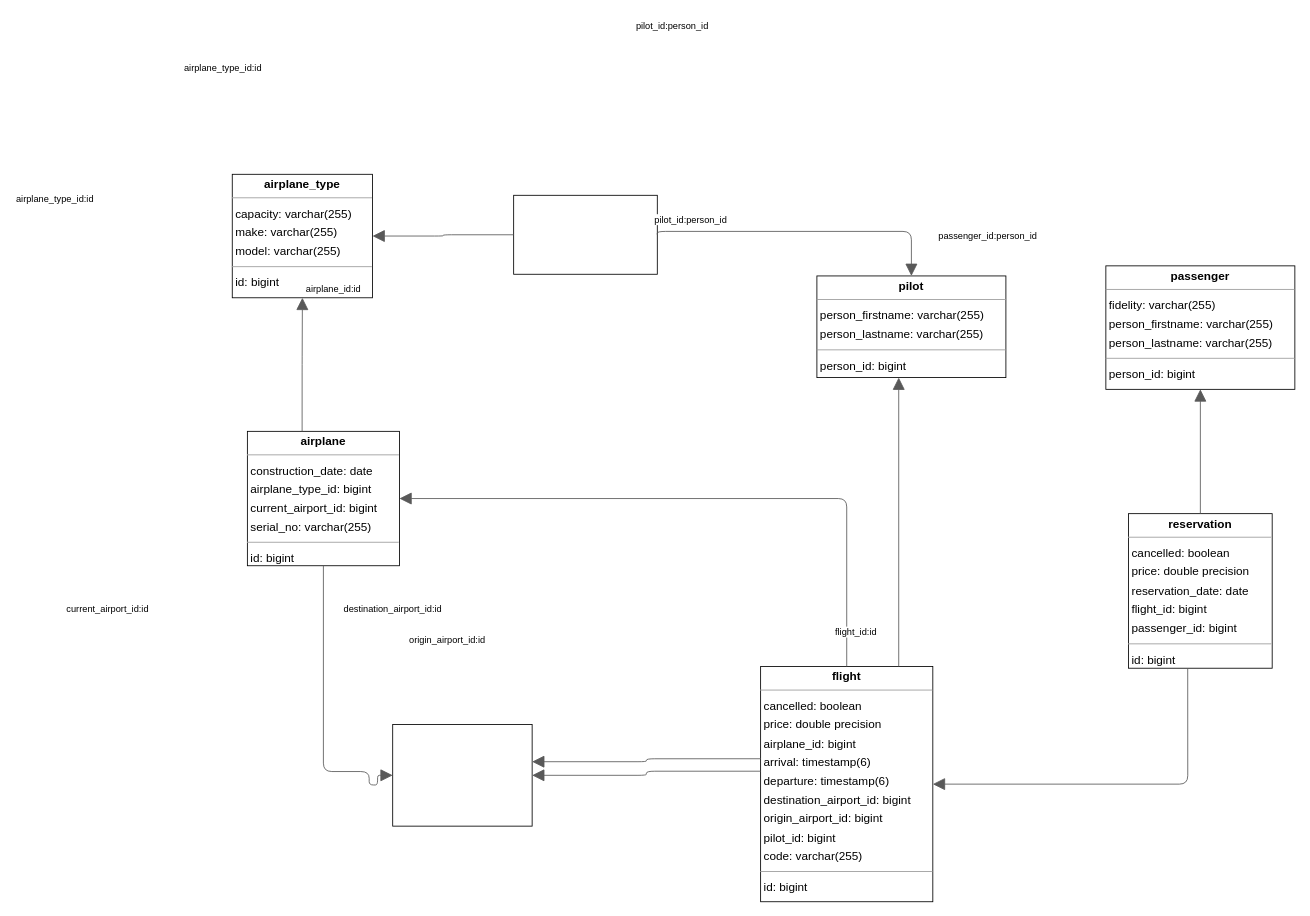
The diagram is 1310 pixels wide and 916 high, and some of its shapes have lost their labels. Each missing label, with the box of its shape:
airport address: varchar(255) name: varchar(255) id: bigint: (392, 724, 532, 826)
pilot_licenses airplane_type_id: bigint pilot_id: bigint: (513, 194, 657, 274)
